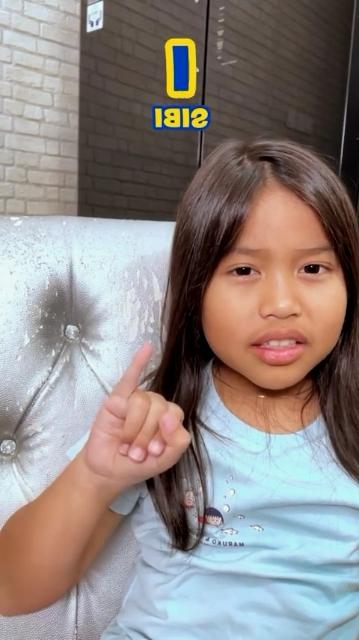I: (83, 337, 195, 491)
